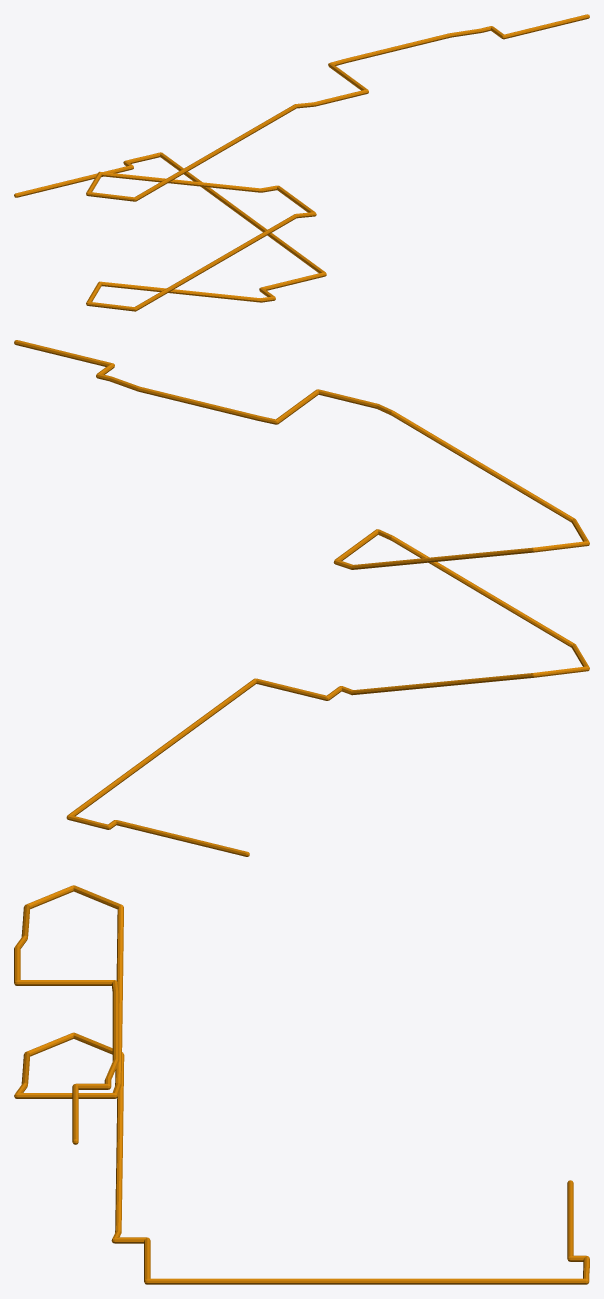
3 renders of one model, top to bottom at view 1: azimuth 30°, elevation 25°; view 2: azimuth 150°, elevation 25°; view 3: azimuth 270°, elevation 25°, orthographic. The views are drawn at different scales.
Size of the model in its own units: 2402 by 1020 by 1772.
